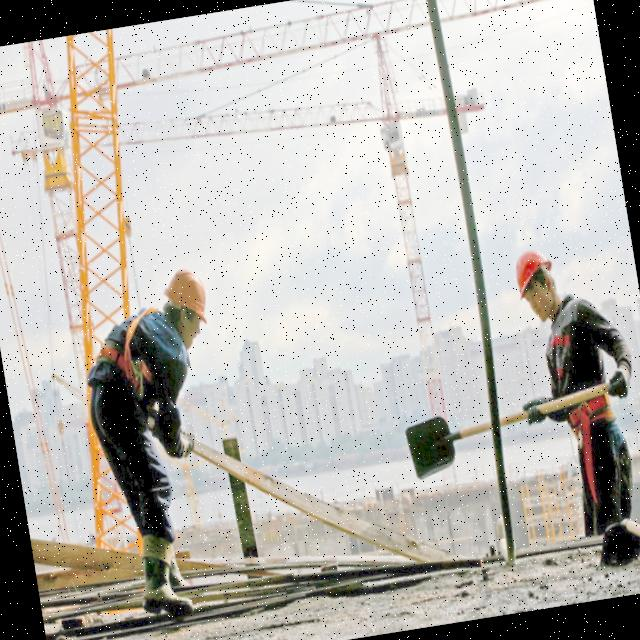Helmet: (161, 264, 212, 329), (512, 247, 559, 303)
NoJacket: (93, 312, 193, 428), (544, 301, 612, 441)
